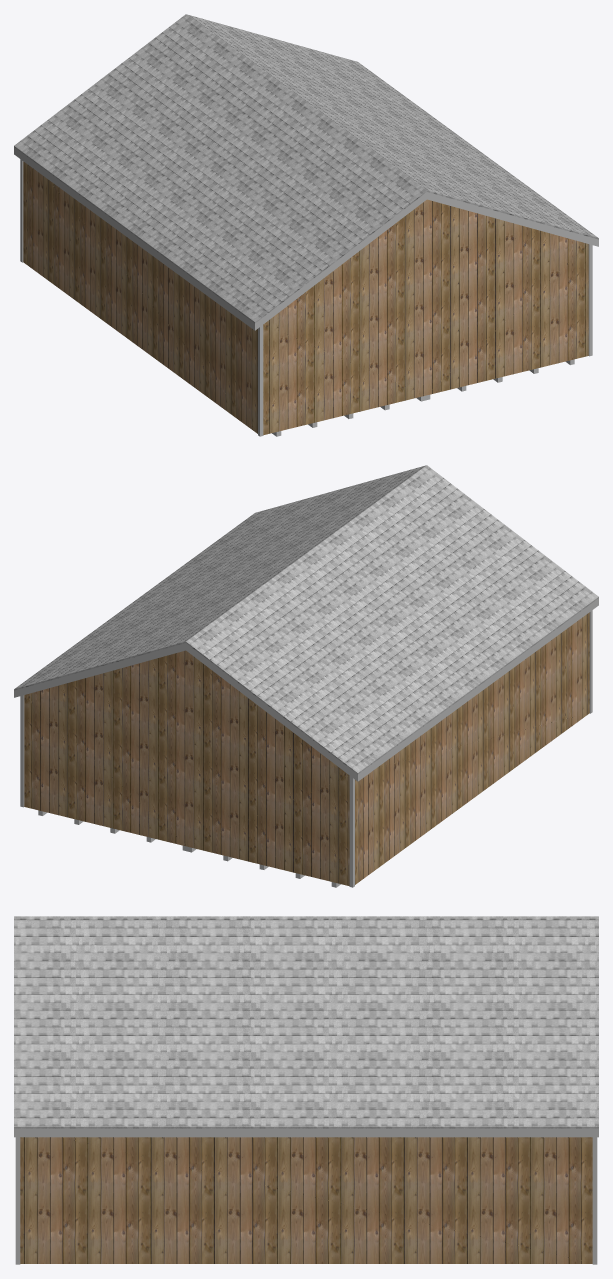
File: Double Garage 6-12 PITCH ROOF_24x30.obj
The picture shows the model from 3 angles, top to bottom: view 1: azimuth 30°, elevation 25°; view 2: azimuth 150°, elevation 25°; view 3: azimuth 270°, elevation 25°; orthographic projection. The views are drawn at different scales.
Visible parts, largest first — view 1: Roof, Shed, Sides, Trim; view 2: Roof, Shed, Sides, Trim; view 3: Roof, Shed, Sides, Trim.
Part boxes in pixels (box(x1,y1,x2,y2)): Roof: box(14, 14, 598, 323); Shed: box(23, 161, 588, 435); Sides: box(14, 147, 598, 330); Trim: box(20, 159, 592, 436); Roof: box(14, 465, 598, 774); Shed: box(24, 612, 589, 886); Sides: box(14, 598, 598, 781); Trim: box(20, 610, 592, 887); Roof: box(14, 916, 598, 1128); Shed: box(20, 1137, 592, 1263); Sides: box(14, 1128, 598, 1137); Trim: box(15, 1137, 597, 1264).
Bounding box in the file's own units: 7.62 × 4.46 × 9.25.
